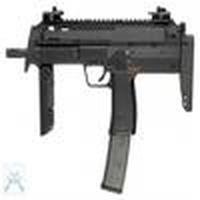gun: (3, 15, 196, 141)
